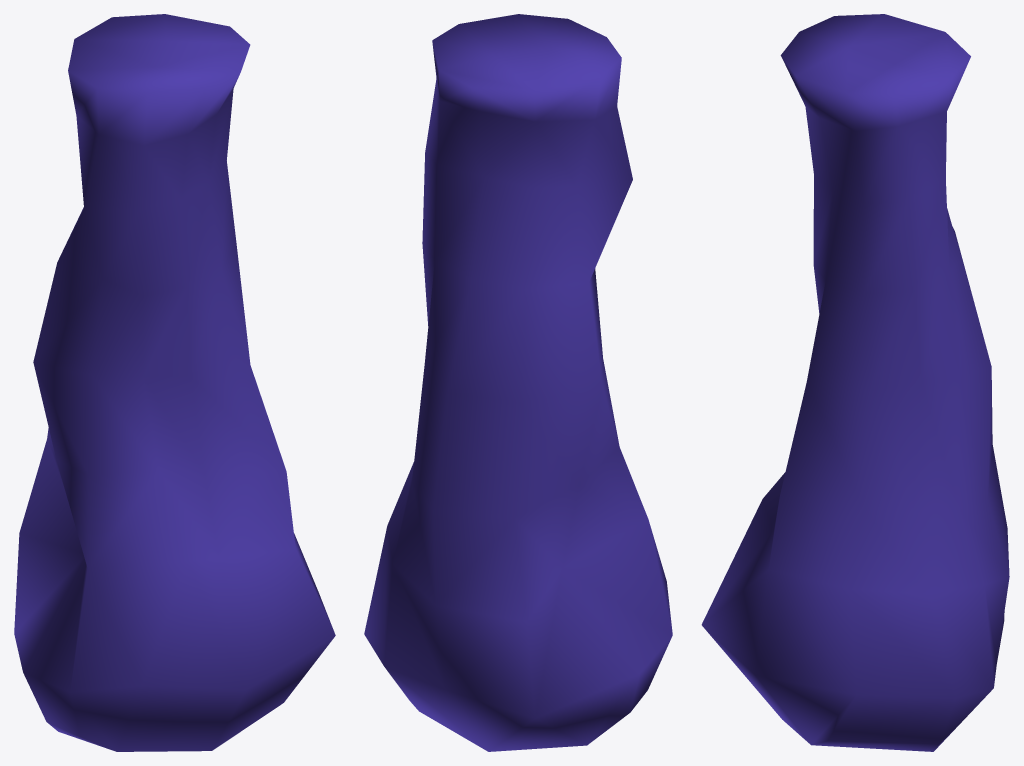
Rendered from pillarbig.fbx.
3 renders of one model, left to right at view 1: azimuth 30°, elevation 25°; view 2: azimuth 150°, elevation 25°; view 3: azimuth 270°, elevation 25°, orthographic.
Visible parts, largest first — view 1: Pillarbig_low; view 2: Pillarbig_low; view 3: Pillarbig_low.
Part boxes in pixels (x1,y1,x2,y2): Pillarbig_low: (14,14,335,751); Pillarbig_low: (364,14,672,751); Pillarbig_low: (701,14,1009,751).
Size of the model in its own units: 19.94 by 47.16 by 19.19.
